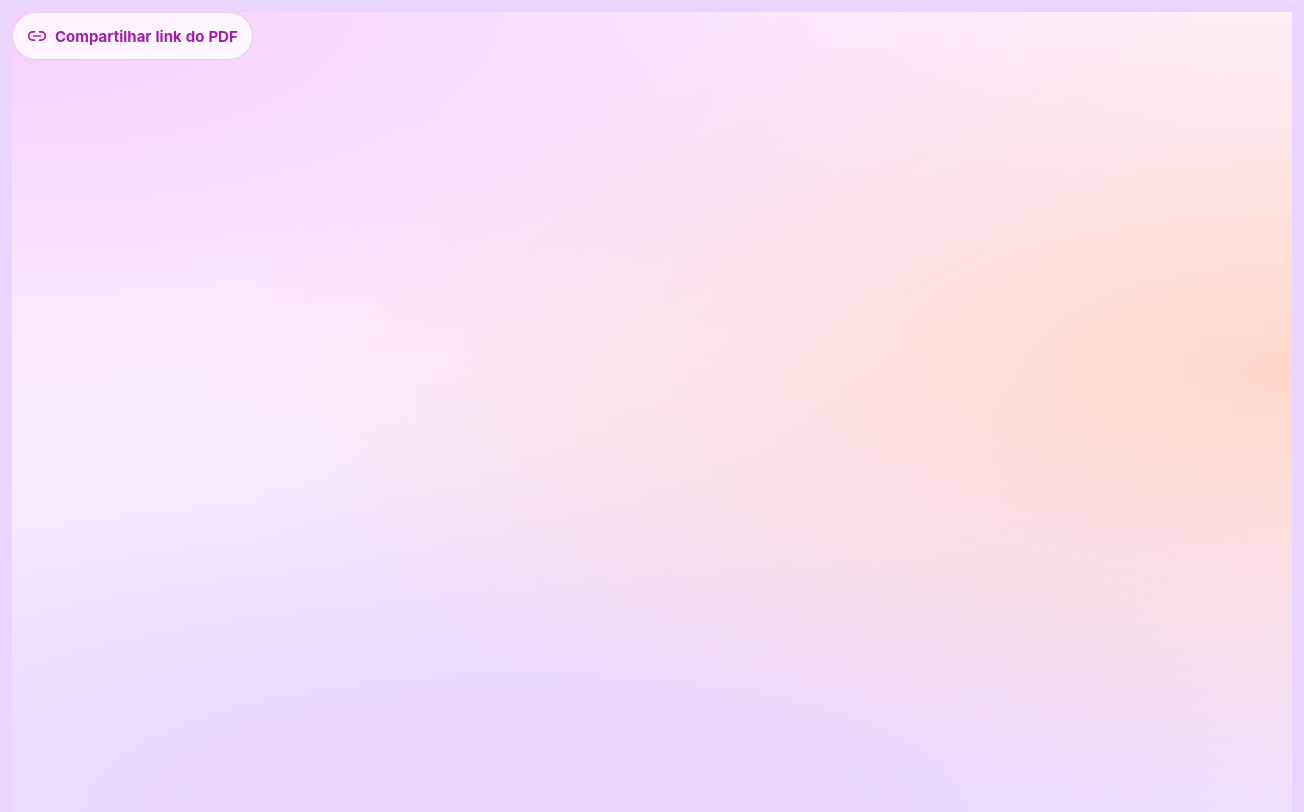
PdfLinkSection › asks for a second tap when the share sheet is refused after the upload
Click the button "Compartilhar link do PDF". click: (132, 36)
box: [12, 12, 253, 60]
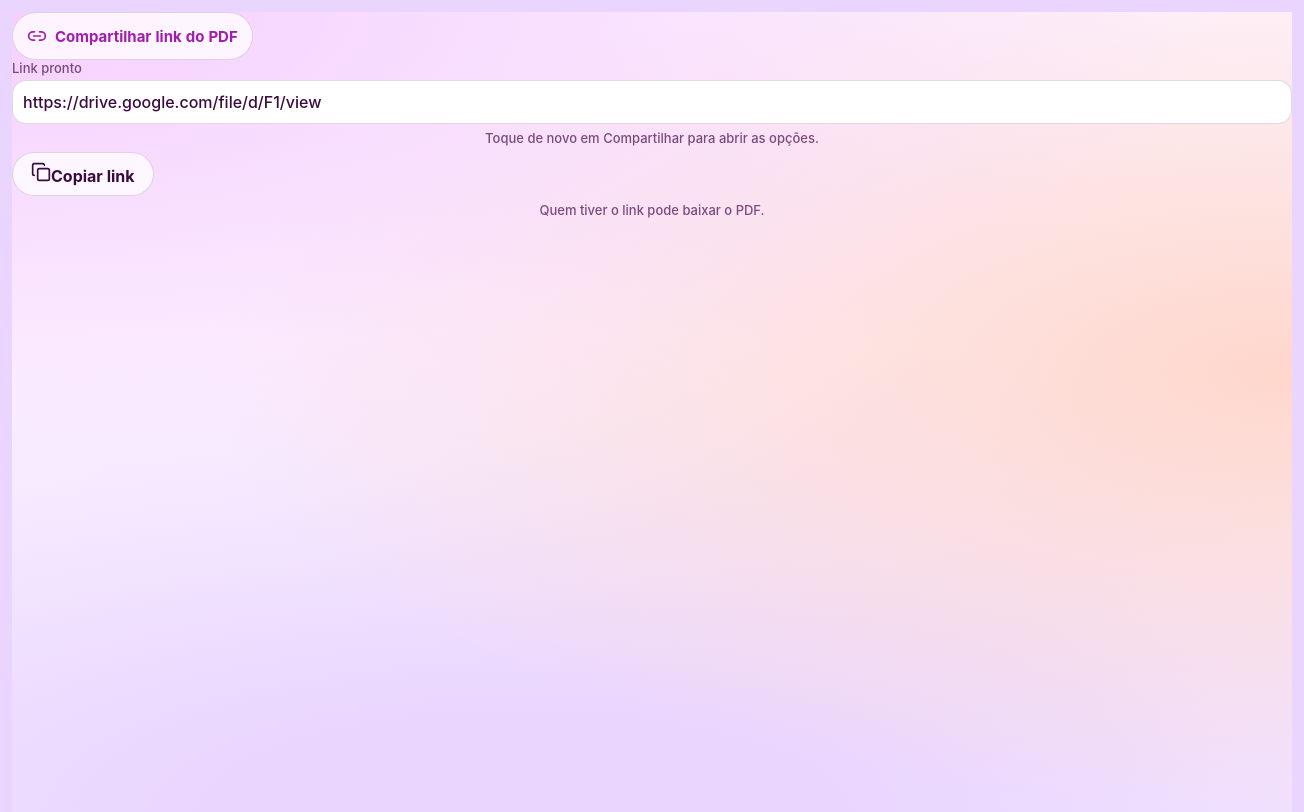
expect the text "Toque de novo em Compartilhar para abrir as opções." is shown: met, box [485, 130, 819, 146]
expect the field showing "https://drive.google.com/file/d/F1/view" is shown: met, box [12, 80, 1292, 124]
Click the button "Compartilhar link do PDF". click: (132, 36)
box: [12, 12, 253, 60]
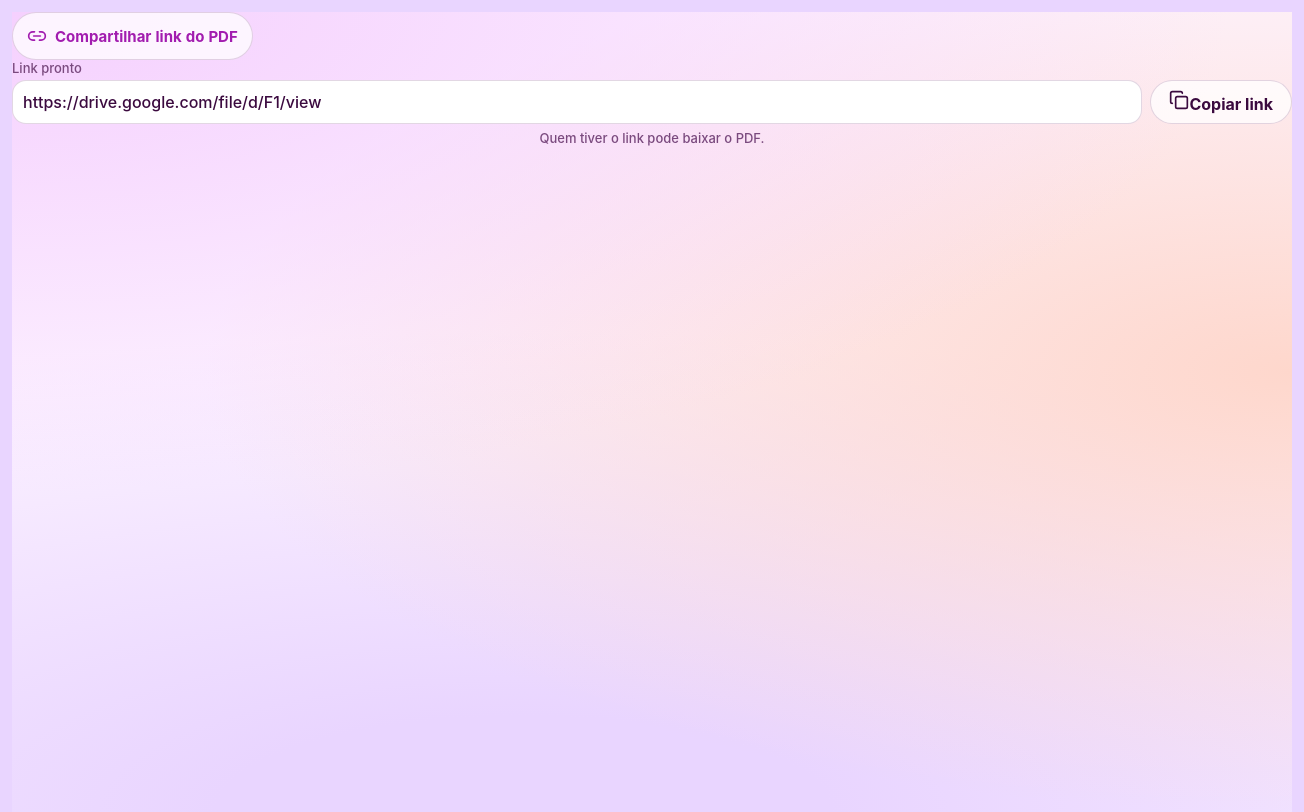
expect the text "Toque de novo em Compartilhar para abrir as opções." is gone: met
